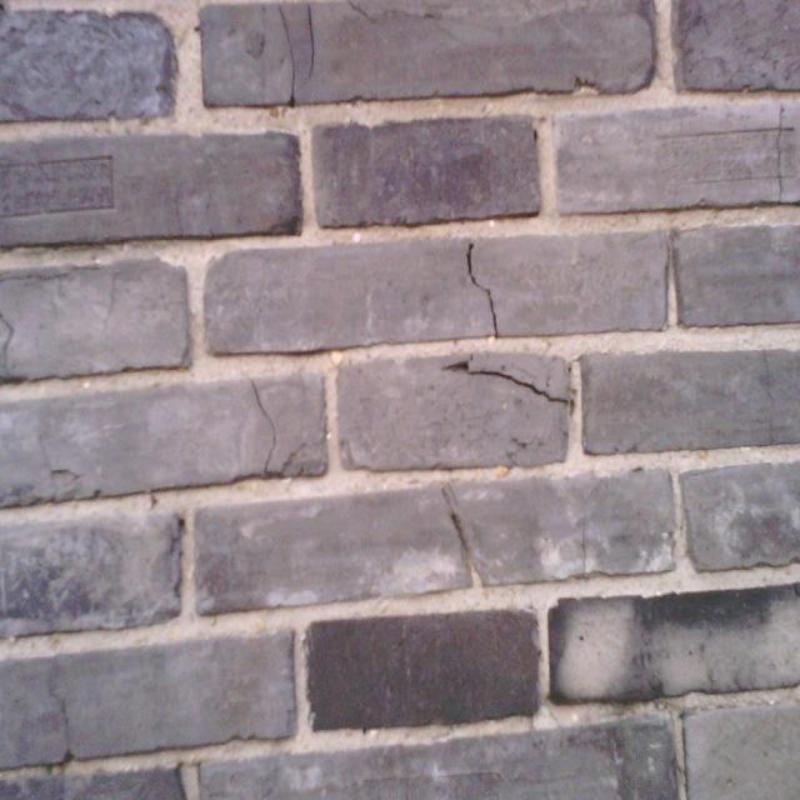crack: (440, 361, 569, 406), (251, 380, 306, 477), (467, 242, 498, 339), (442, 490, 476, 567), (49, 666, 71, 759), (278, 8, 296, 108), (296, 4, 315, 90), (1, 313, 15, 369), (776, 106, 784, 200), (581, 514, 588, 575), (349, 2, 368, 20)
